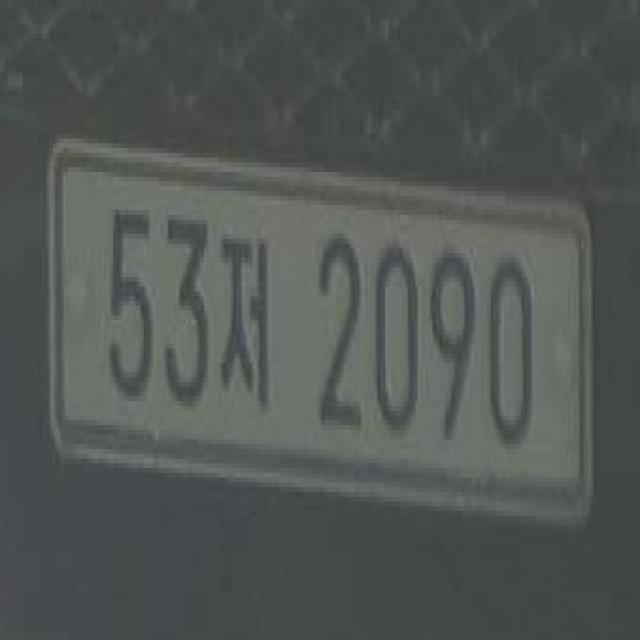0: (485, 234, 551, 478), (370, 229, 423, 444)
2: (311, 224, 372, 449)
3: (157, 200, 219, 430)
5: (102, 201, 159, 401)
9: (429, 238, 485, 434)
jeo: (208, 210, 279, 411)
license_plate: (39, 129, 594, 544)
